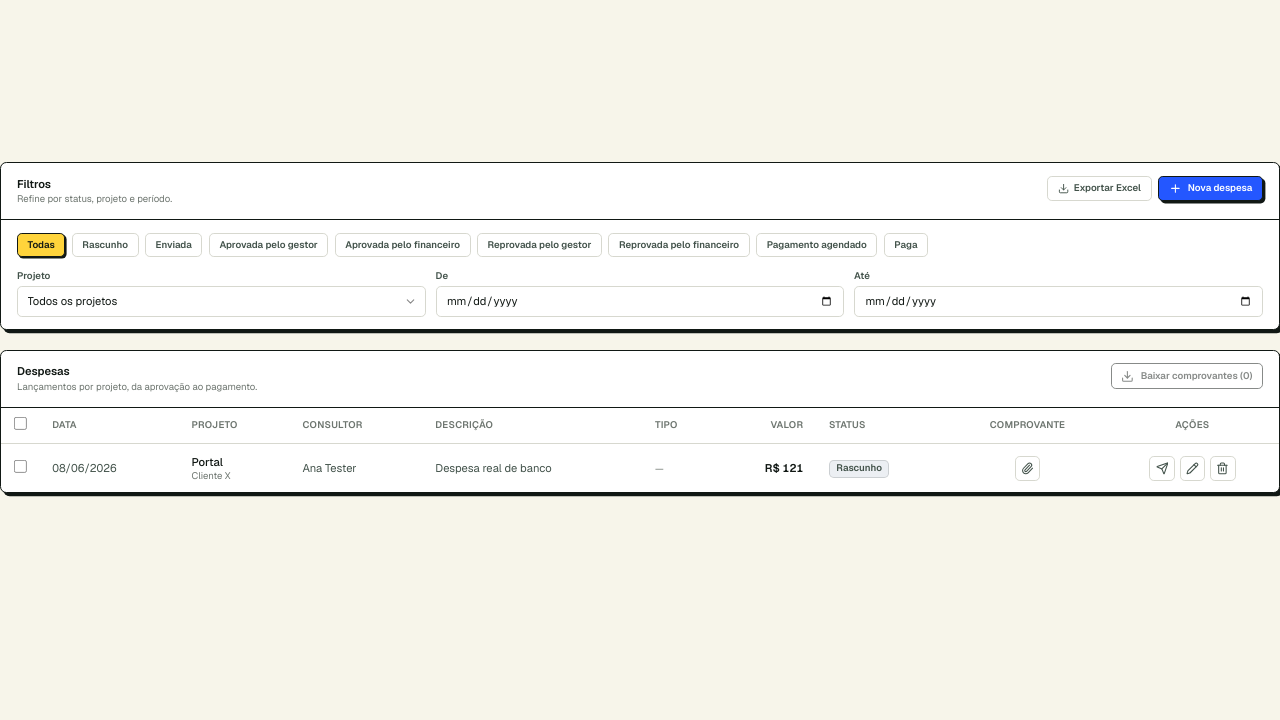
ExpensesView (db mode) › offers download-only for non-previewable attachment types
Click the button named "Ver comprovante de Despesa real". click: coordinates (1027, 468)
box: [1015,456,1040,481]
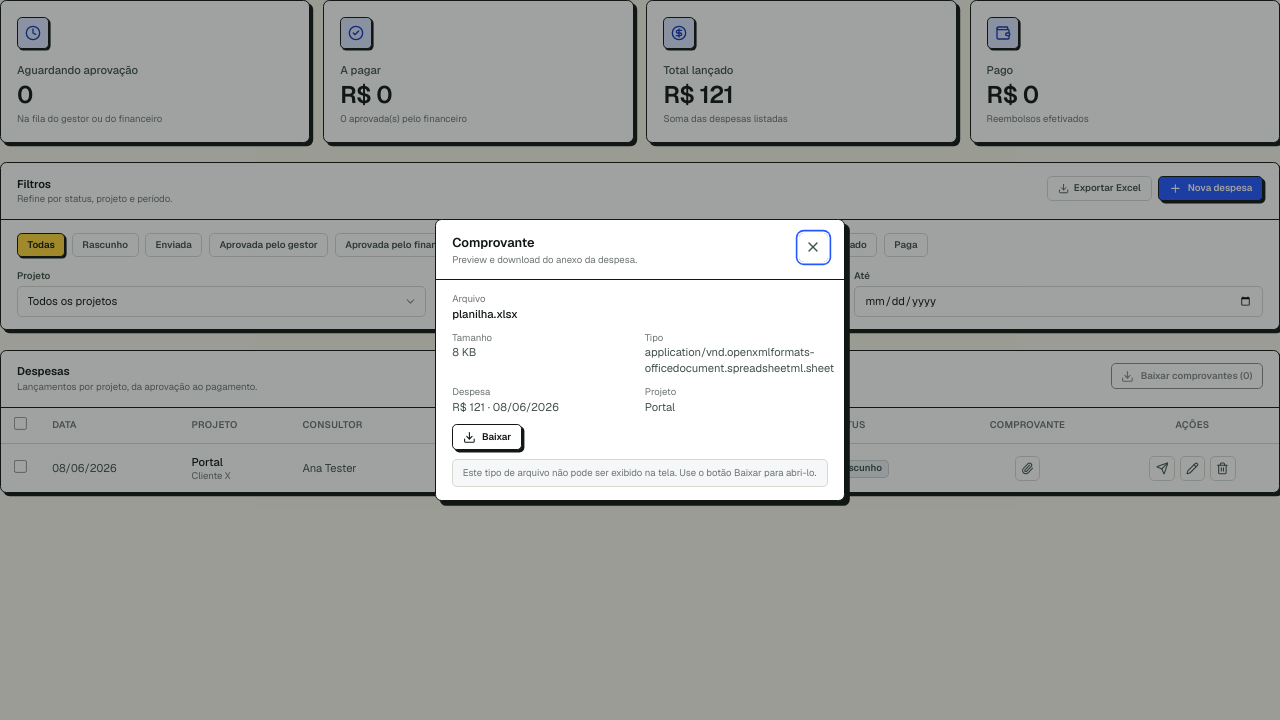
Expected: the button "Baixar" is shown, [452,424,522,450]
Expected: the text "não pode ser exibido na tela" is shown, [463,466,816,479]
